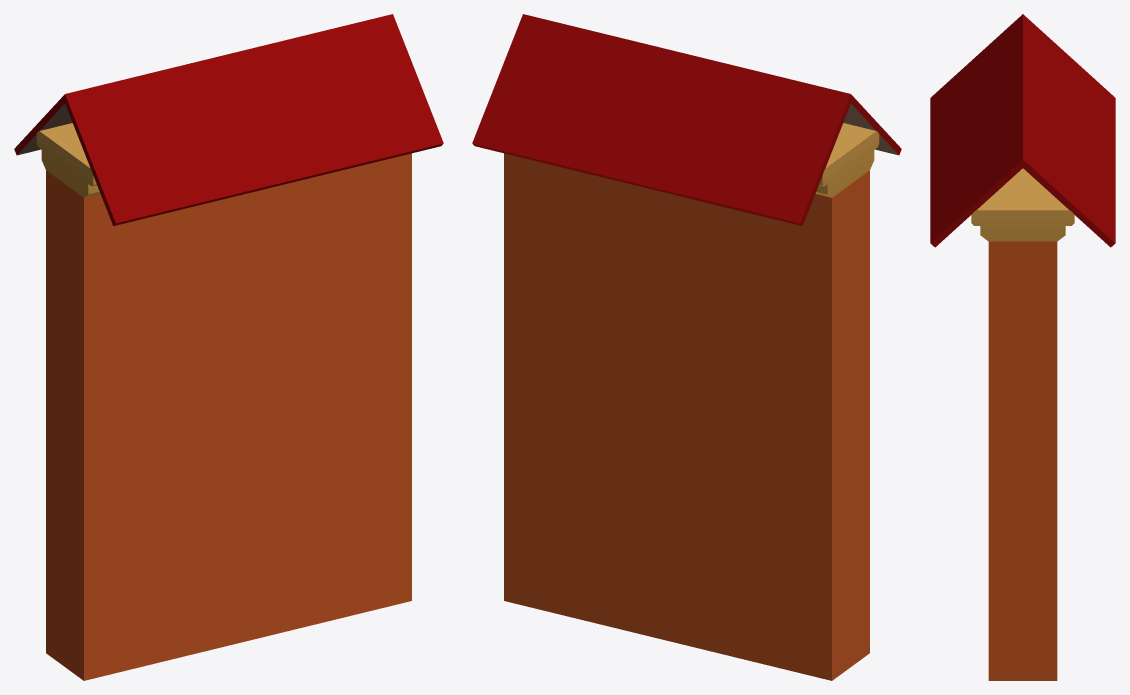
File: BlockWalls.fbx
3 renders of one model, left to right at view 1: azimuth 30°, elevation 25°; view 2: azimuth 150°, elevation 25°; view 3: azimuth 270°, elevation 25°, orthographic. The views are drawn at different scales.
Visible parts, largest first — view 1: BlockWall01, BlockWall03, BlockWall02; view 2: BlockWall01, BlockWall02, BlockWall03; view 3: BlockWall01, BlockWall03.
Boxes of the visible parts, x1,y1,x2,y2 form: BlockWall01: [14, 14, 443, 680]; BlockWall03: [149, 34, 361, 660]; BlockWall02: [84, 153, 411, 680]; BlockWall01: [472, 14, 901, 680]; BlockWall02: [504, 153, 831, 680]; BlockWall03: [554, 34, 766, 610]; BlockWall01: [930, 14, 1115, 680]; BlockWall03: [930, 51, 1115, 205].
Size of the model in its own units: 200 by 334 by 107.
